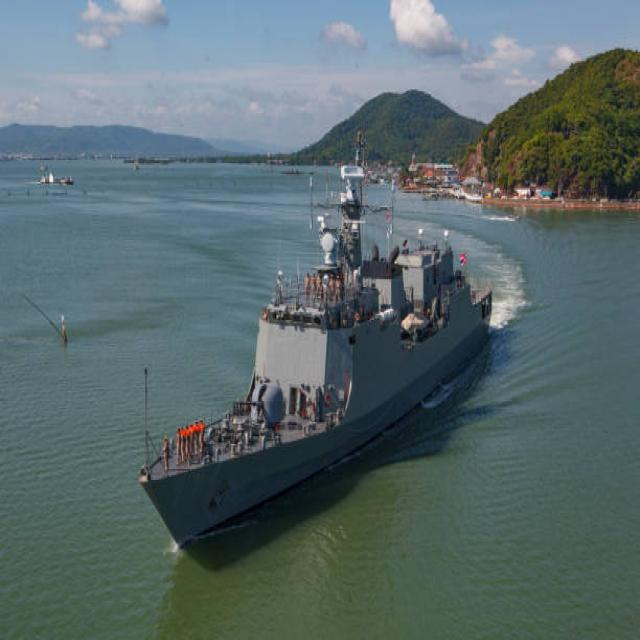Military: (138, 171, 490, 554)
